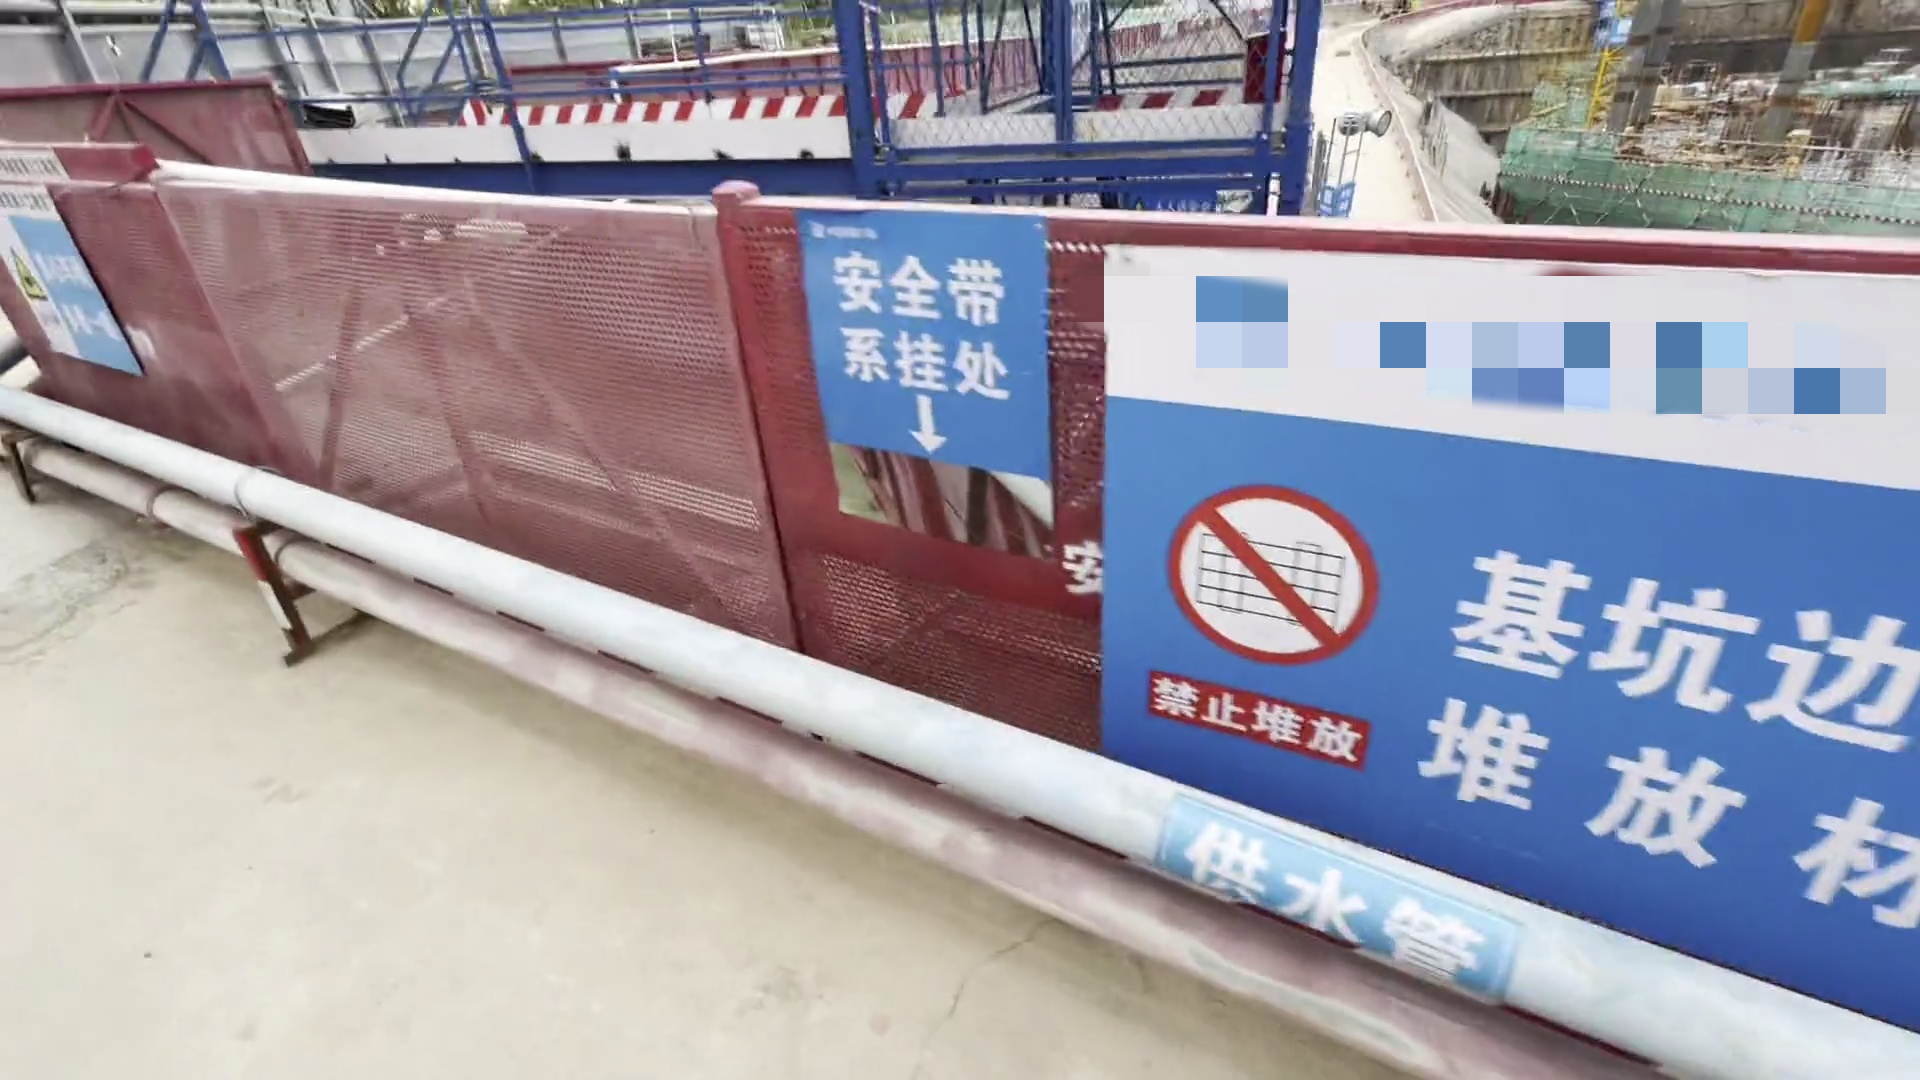fence: (1, 121, 1873, 971)
slogan: (795, 208, 1919, 924), (1, 138, 142, 378)
